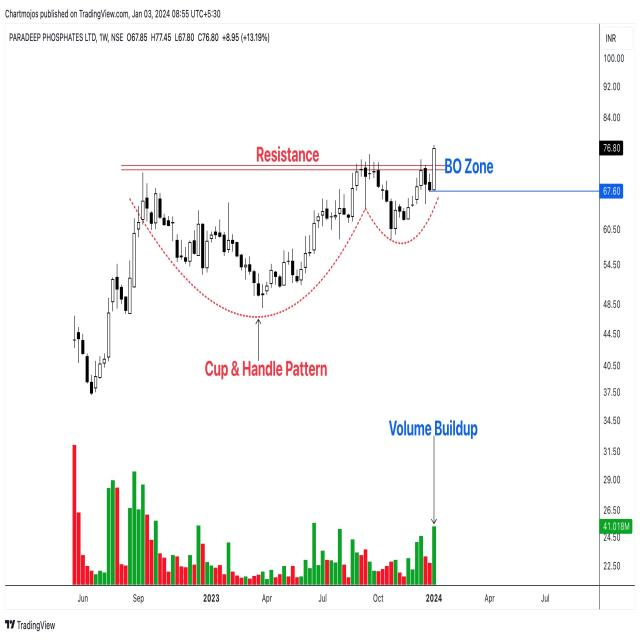Cup-and-handle: (132, 161, 438, 317)
